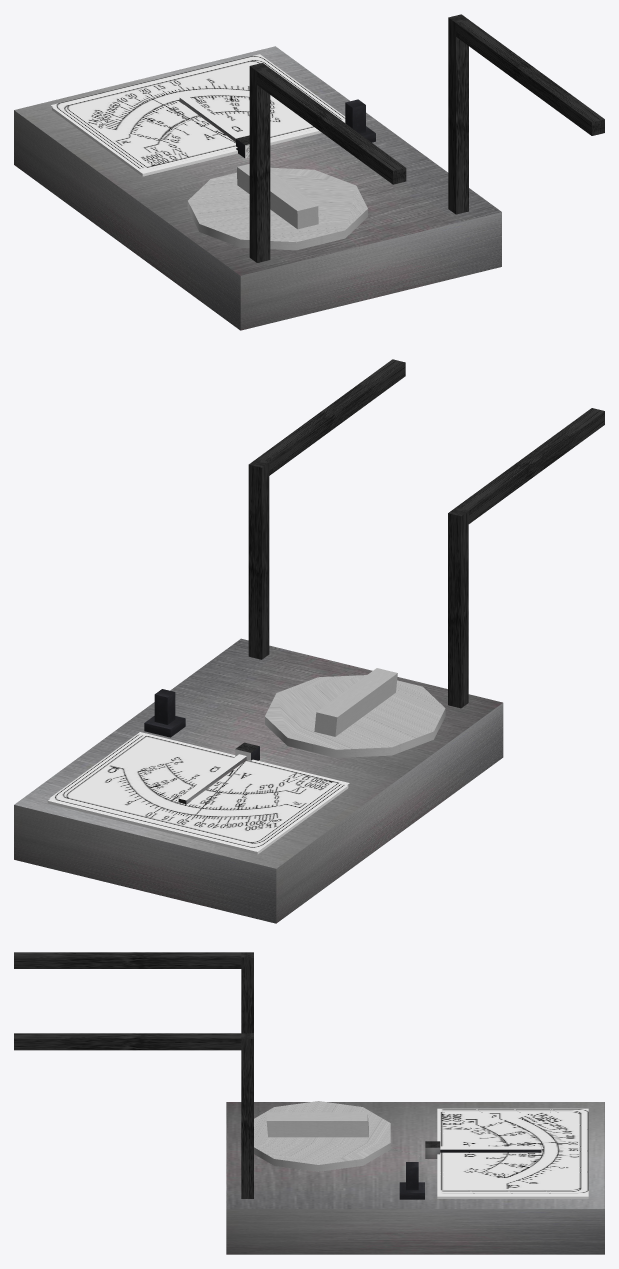
File: 电压表.glb
3 views of the same model, one above another, from view 1: azimuth 30°, elevation 25°; view 2: azimuth 150°, elevation 25°; view 3: azimuth 270°, elevation 25° (orthographic). The views are drawn at different scales.
Parts seen in each view (by area): view 1: Box001; view 2: Box001; view 3: Box001.
Boxes of the visible parts, bbox=[...] form: Box001: bbox=[14, 14, 604, 330]; Box001: bbox=[14, 359, 604, 923]; Box001: bbox=[14, 952, 604, 1254].
Bounding box in the file's own units: 100 × 90 × 234.
Materials: 6 (5 with a texture image).
